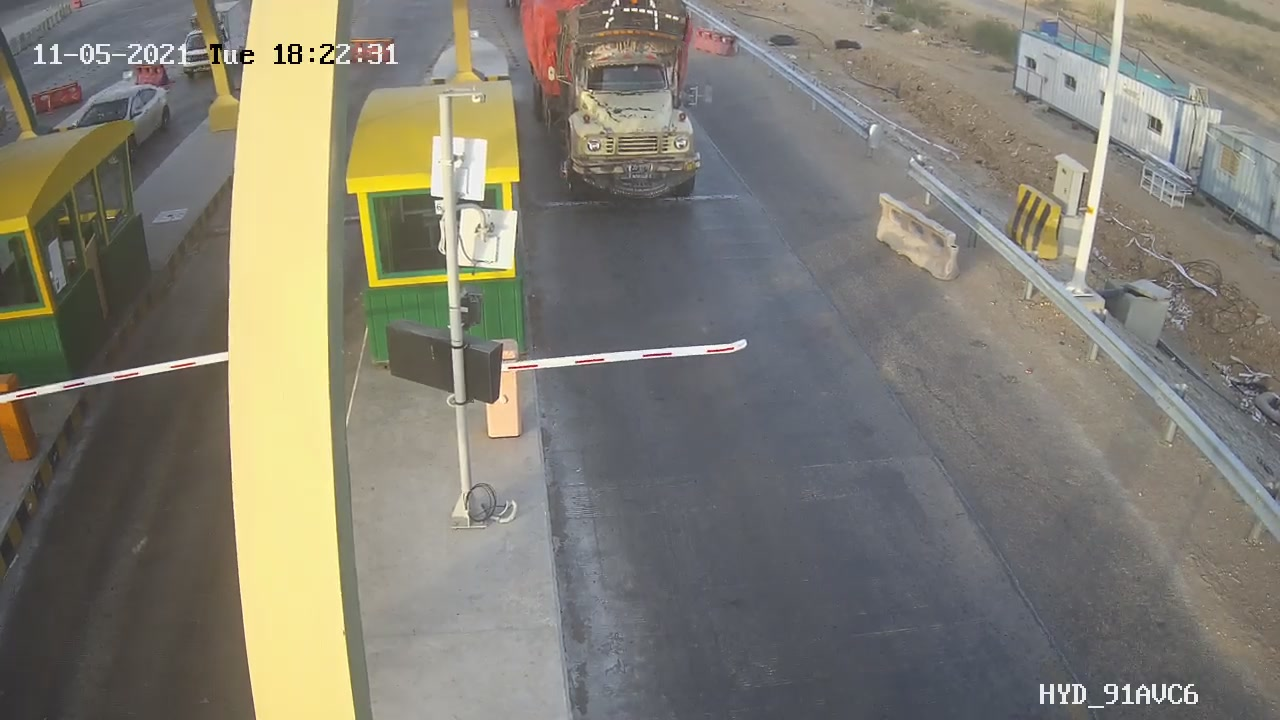F5: (539, 6, 732, 203)
